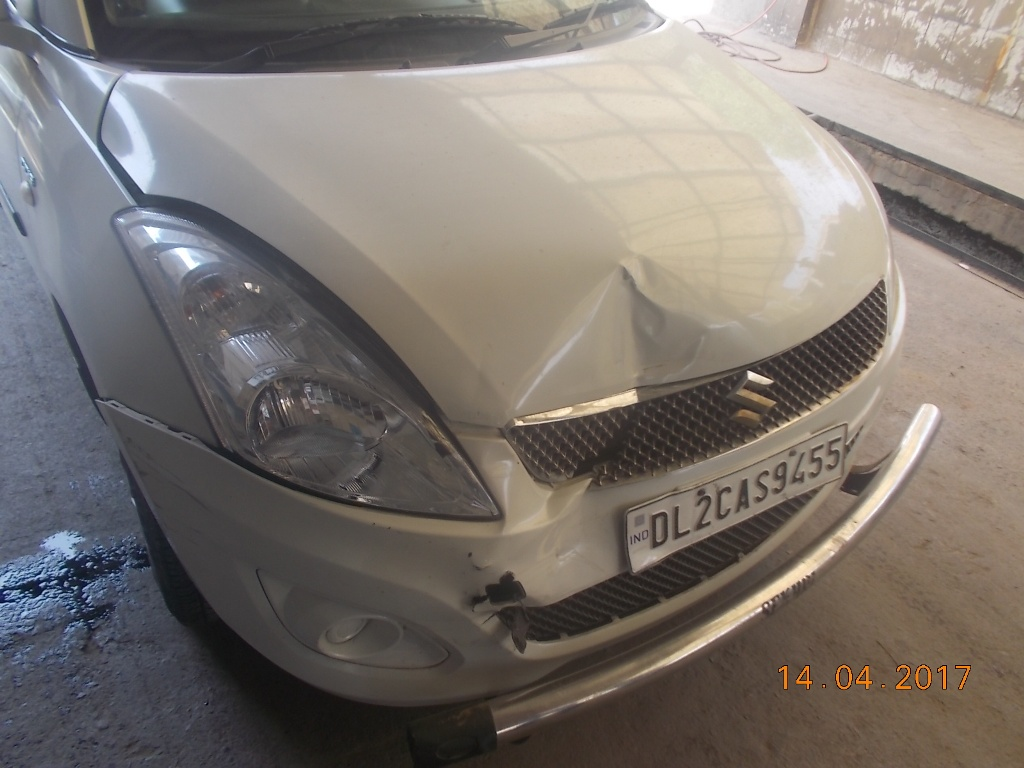Dent: (501, 253, 712, 384)
Tear: (463, 549, 534, 641)
